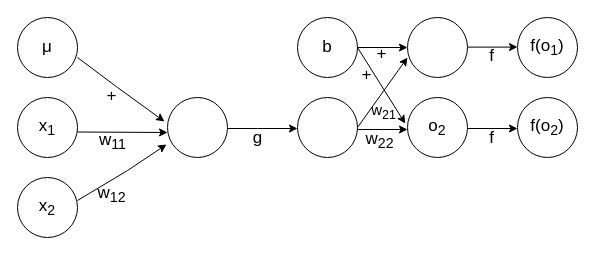
Image size: 595x255. Some labels were removed from this diagram. The centre of each missing label's shape, as x and y in pixels:
"g(h 1 )" belongs at pixel 327 127.
"h 1" belongs at pixel 197 127.
"o 1" belongs at pixel 437 47.
